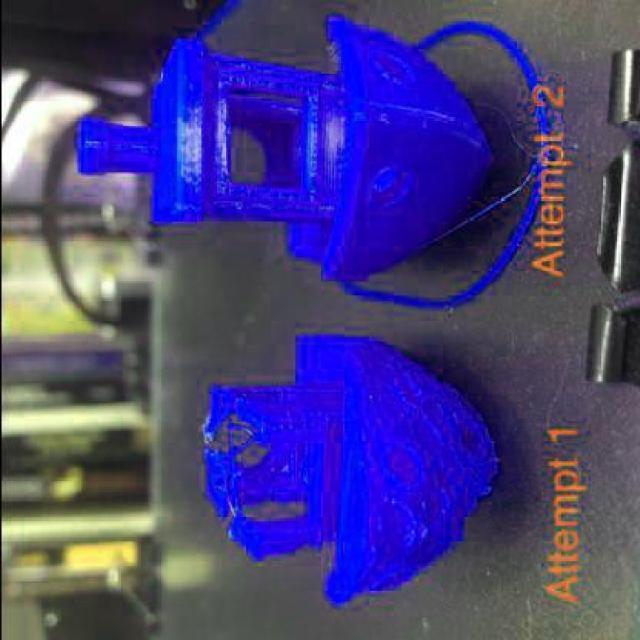spaghetti: (217, 425, 254, 516)
